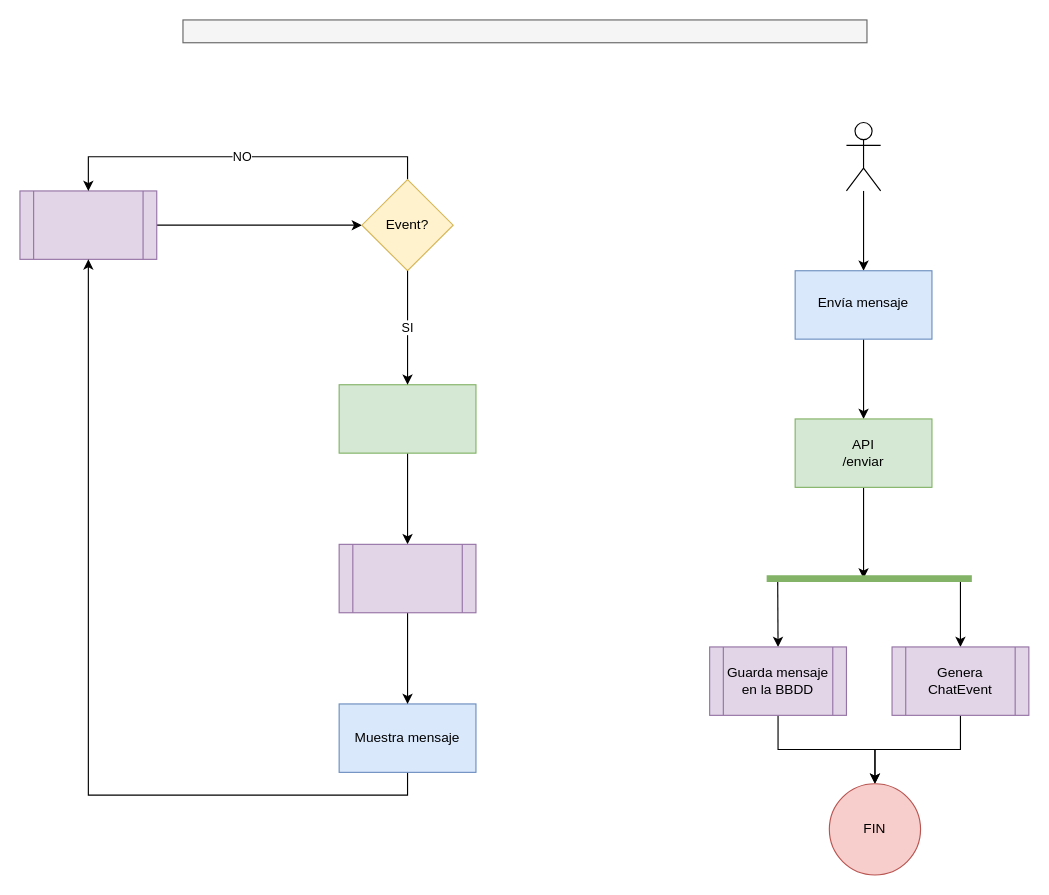
Image size: 1049x895. Some labels were removed from this diagram. The centre of each missing label's shape, as x and y in pixels:
API /recibir: (x=407, y=418)
ChatEvent Listening: (x=88, y=224)
Diagrama de Funcionamiento Chat en vivo: (x=524, y=31)
GET data del usuario que envía el msg: (x=407, y=578)
